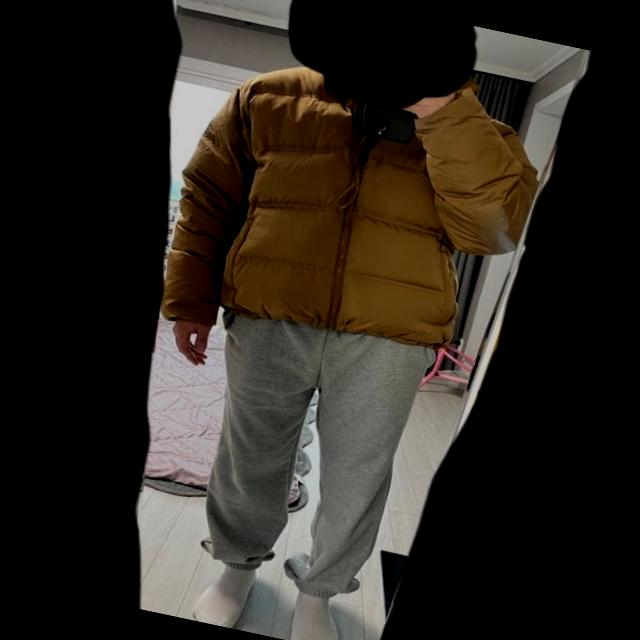padding: (155, 30, 553, 382)
trainingpants: (178, 298, 428, 606)
